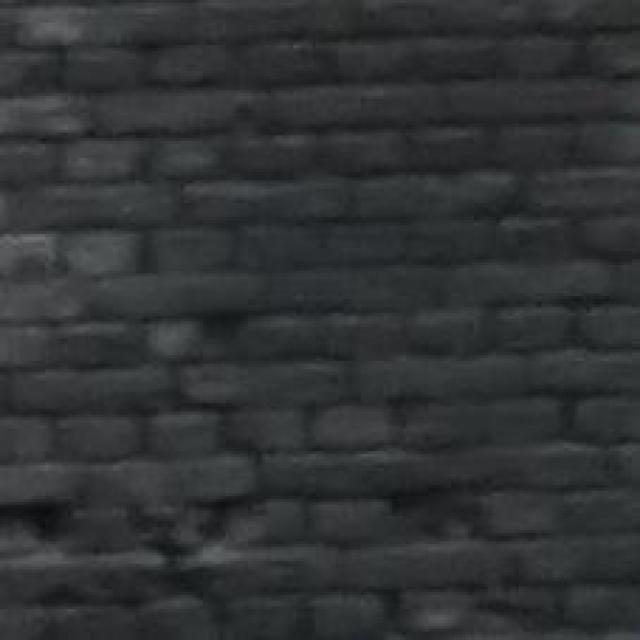Crack: (67, 258, 354, 640)
